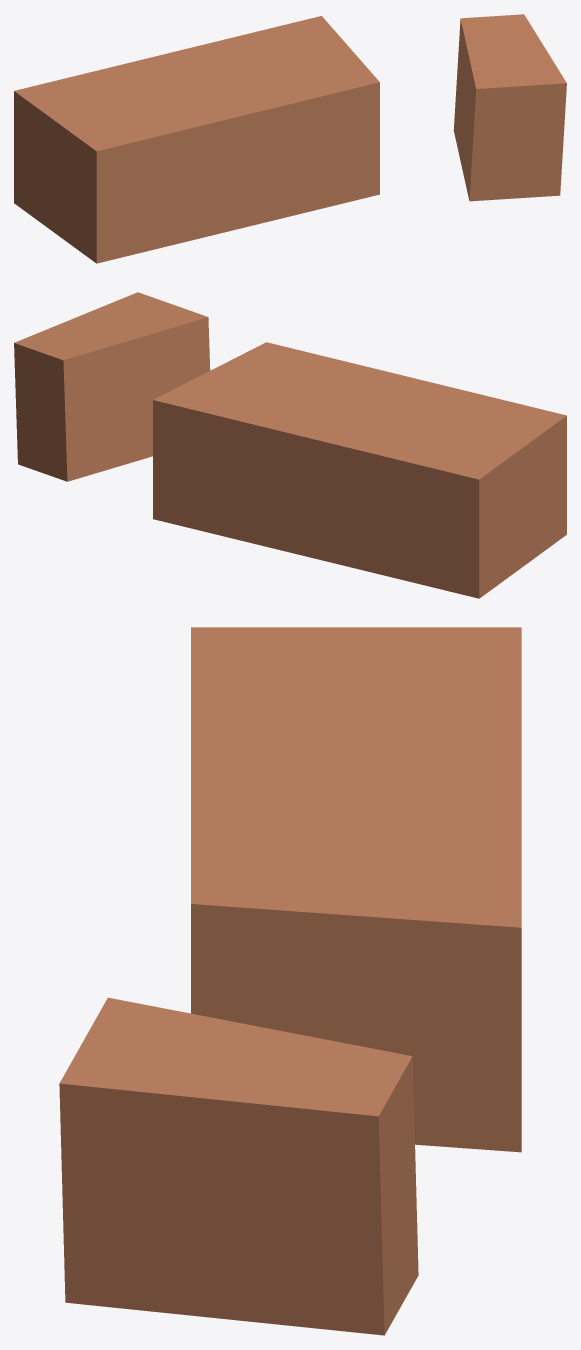
The model's file is Brick_crk_03.fbx.
3 views of the same model, one above another, from view 1: azimuth 30°, elevation 25°; view 2: azimuth 150°, elevation 25°; view 3: azimuth 270°, elevation 25° (orthographic). The views are drawn at different scales.
Parts seen in each view (by area): view 1: Brick_crk_03; view 2: Brick_crk_03; view 3: Brick_crk_03.
Part boxes in pixels (x1,y1,x2,y2): Brick_crk_03: (14,14,566,263); Brick_crk_03: (14,292,566,598); Brick_crk_03: (59,627,521,1335).
Size of the model in its own units: 33.15 by 8.46 by 13.98.
